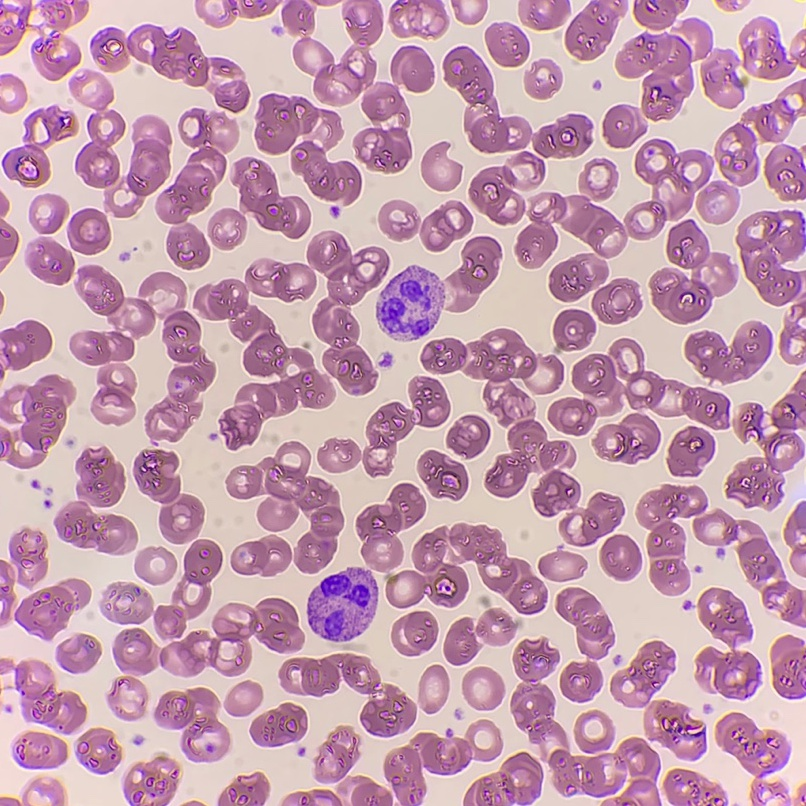RBC: (194, 280, 333, 448), (227, 442, 343, 572), (386, 524, 546, 613), (572, 339, 728, 428), (308, 232, 388, 394), (693, 511, 805, 623), (511, 684, 613, 796), (280, 654, 415, 736), (160, 598, 303, 675), (727, 374, 805, 508), (384, 720, 501, 805), (444, 47, 531, 152), (157, 109, 237, 223), (467, 329, 563, 423), (146, 311, 214, 440), (650, 220, 734, 323), (626, 140, 710, 239), (70, 266, 154, 364), (516, 193, 625, 267), (91, 25, 209, 85), (0, 375, 74, 468), (105, 116, 170, 217), (154, 540, 221, 637), (616, 34, 692, 119), (134, 450, 203, 543), (70, 72, 124, 187), (292, 111, 361, 201), (486, 420, 567, 496), (737, 211, 803, 304), (235, 158, 310, 237), (357, 484, 425, 570), (3, 107, 77, 186), (155, 688, 229, 760), (307, 567, 377, 641), (685, 322, 770, 382), (354, 83, 411, 171), (15, 661, 85, 732), (638, 485, 706, 557), (376, 266, 443, 339), (15, 579, 90, 639), (55, 501, 136, 554), (717, 713, 787, 773), (611, 641, 674, 706), (557, 588, 614, 658), (450, 236, 501, 311), (744, 80, 805, 141), (255, 94, 318, 153), (363, 403, 413, 474), (475, 753, 542, 805), (565, 0, 624, 59), (644, 701, 705, 758), (314, 47, 375, 103), (560, 493, 623, 545), (595, 414, 659, 463), (740, 20, 793, 79), (470, 167, 524, 223), (697, 648, 757, 698), (616, 738, 660, 805), (699, 588, 751, 644), (124, 753, 177, 805), (76, 449, 124, 506), (550, 254, 607, 301), (701, 50, 747, 107), (248, 263, 315, 301), (715, 123, 756, 184), (421, 202, 472, 250), (533, 115, 591, 157), (2, 321, 51, 369), (92, 367, 134, 423), (418, 451, 467, 498), (231, 536, 290, 575), (316, 727, 358, 781), (251, 704, 306, 745), (668, 427, 714, 475), (765, 145, 805, 199), (592, 279, 641, 323), (27, 237, 73, 283), (771, 636, 805, 698), (10, 529, 47, 585), (533, 471, 579, 516), (33, 36, 80, 80), (390, 0, 447, 36), (665, 769, 722, 805), (392, 611, 437, 655), (409, 377, 449, 426), (113, 629, 156, 674), (103, 584, 152, 623), (391, 46, 433, 91), (68, 209, 110, 254), (485, 23, 528, 66), (77, 729, 120, 772), (600, 535, 641, 580), (513, 639, 558, 680), (167, 225, 209, 268), (422, 144, 461, 190), (548, 398, 596, 434), (603, 105, 644, 147), (447, 415, 489, 456), (18, 732, 67, 767), (0, 0, 31, 54), (554, 310, 595, 350), (463, 668, 503, 709), (560, 662, 602, 701), (108, 677, 146, 719), (57, 635, 100, 672), (346, 0, 382, 44), (422, 338, 467, 373), (698, 182, 736, 223), (575, 711, 613, 752), (218, 774, 268, 805), (634, 0, 687, 29), (579, 159, 617, 199), (444, 618, 477, 664), (30, 194, 68, 233), (379, 201, 418, 239), (519, 0, 569, 29), (209, 209, 245, 249), (135, 548, 175, 584), (525, 60, 561, 98), (650, 559, 689, 594), (318, 439, 359, 472), (43, 0, 88, 30), (539, 552, 585, 581), (477, 609, 515, 644), (784, 502, 805, 565), (225, 682, 262, 716), (352, 777, 391, 805), (214, 80, 248, 111), (682, 20, 710, 57), (282, 0, 313, 32), (141, 272, 185, 294), (517, 152, 544, 179), (780, 322, 805, 348), (0, 221, 17, 258), (212, 0, 236, 26), (241, 0, 276, 17), (0, 561, 14, 598), (212, 58, 238, 76), (42, 783, 63, 805), (1, 75, 22, 90), (291, 792, 314, 805), (0, 195, 8, 216), (0, 659, 12, 673), (718, 0, 736, 8), (796, 50, 805, 66), (0, 797, 18, 805), (429, 666, 443, 675), (0, 100, 11, 111), (0, 612, 9, 624), (322, 53, 332, 63), (426, 704, 435, 712), (293, 48, 301, 56), (794, 355, 802, 363), (321, 790, 329, 798), (464, 797, 472, 805), (452, 0, 460, 6), (332, 800, 340, 805), (317, 0, 326, 4)
